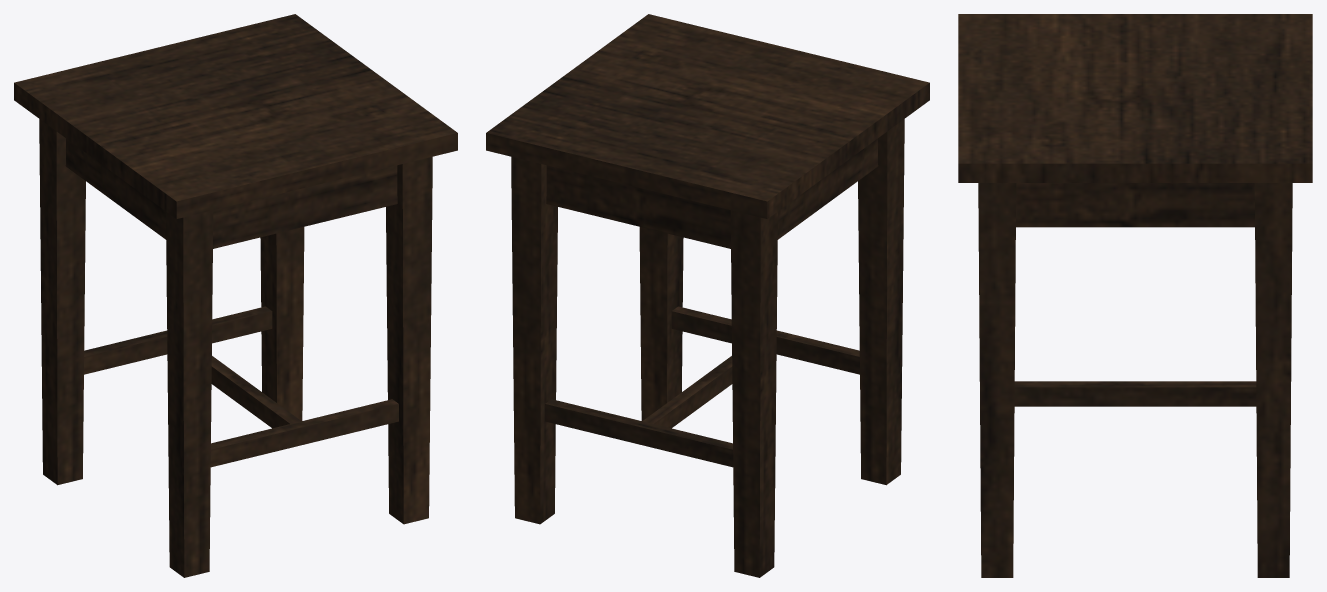
Rendered from chair_mp_1_1.fbx.
3 renders of one model, left to right at view 1: azimuth 30°, elevation 25°; view 2: azimuth 150°, elevation 25°; view 3: azimuth 270°, elevation 25°, orthographic. The views are drawn at different scales.
Parts seen in each view (by area): view 1: chair_mp_1_1; view 2: chair_mp_1_1; view 3: chair_mp_1_1.
Boxes of the visible parts, <box> form: chair_mp_1_1: <box>14,14,457,577</box>; chair_mp_1_1: <box>486,14,929,577</box>; chair_mp_1_1: <box>958,14,1312,577</box>.
Size of the model in its own units: 0.5 by 0.5 by 0.66.
